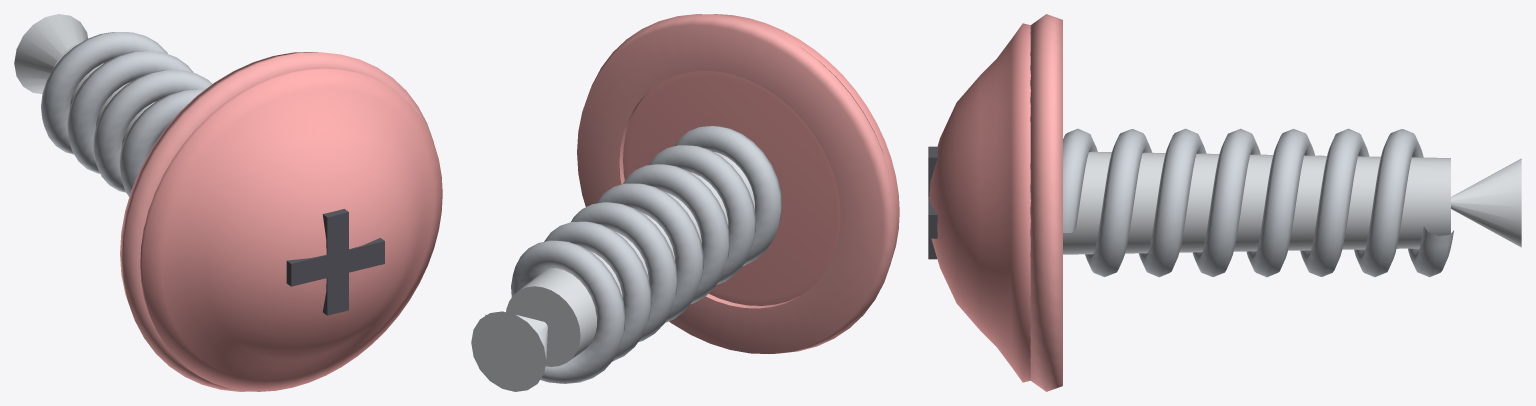
Rendered from screw.glb.
The picture shows the model from 3 angles, left to right: view 1: azimuth 30°, elevation 25°; view 2: azimuth 150°, elevation 25°; view 3: azimuth 270°, elevation 25°; orthographic projection. The views are drawn at different scales.
Visible parts, largest first — view 1: head, thread, washer, slot (×2), steel_tip, steel_shaft; view 2: washer, thread, head, steel_shaft, steel_tip; view 3: thread, head, steel_shaft, washer, steel_tip.
Part boxes in pixels (x1,y1,x2,y2): head: (140,68,442,391); thread: (41,32,212,196); washer: (120,52,433,391); slot (×2): (286,209,384,315); steel_tip: (14,14,87,93); steel_shaft: (52,41,154,145); washer: (577,14,896,353); thread: (485,126,781,383); head: (623,14,899,305); steel_shaft: (506,152,754,366); steel_tip: (471,311,547,391); thread: (1063,128,1453,277); head: (929,23,1030,382); steel_shaft: (1063,151,1450,254); washer: (1030,14,1062,391); steel_tip: (1451,158,1521,247).
Size of the model in its own units: 0.32 by 0.32 by 0.502.
